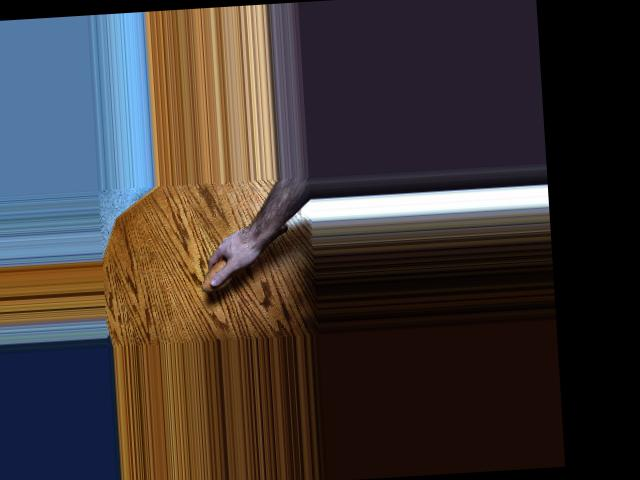sweet_potato: (196, 216, 295, 293)
